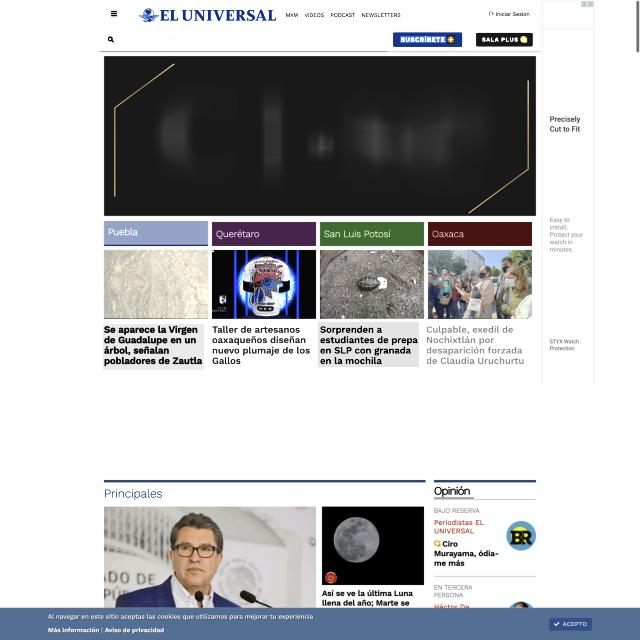CheckBox: (393, 32, 462, 47), (476, 32, 533, 47), (485, 9, 531, 19)
CheckedTextView: (99, 28, 387, 52)
ImageView: (539, 0, 594, 386)
Input field: (103, 324, 204, 370), (318, 322, 419, 367), (210, 323, 312, 367), (428, 324, 528, 368)
bag: (98, 0, 540, 51)
breadcrumbs: (427, 221, 533, 247), (212, 222, 316, 247), (104, 222, 208, 246), (320, 222, 424, 246), (103, 486, 164, 502), (431, 486, 474, 500)
card: (104, 55, 536, 216)
carousel: (106, 35, 115, 44), (110, 9, 118, 18), (447, 35, 455, 44), (520, 36, 528, 43), (488, 11, 494, 17)
copy: (212, 250, 316, 320), (321, 249, 424, 319), (428, 250, 533, 318), (104, 250, 208, 318)
data feed: (400, 36, 446, 43), (482, 36, 518, 42), (495, 11, 530, 17)
date picker: (137, 5, 278, 26)
decoration: (285, 11, 402, 20), (100, 0, 129, 27)
footer: (118, 35, 179, 43)
